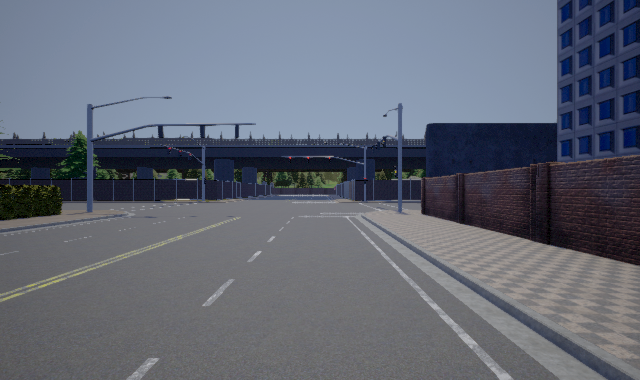traffic_light: (329, 157, 331, 163), (307, 157, 309, 163), (289, 157, 291, 163)
